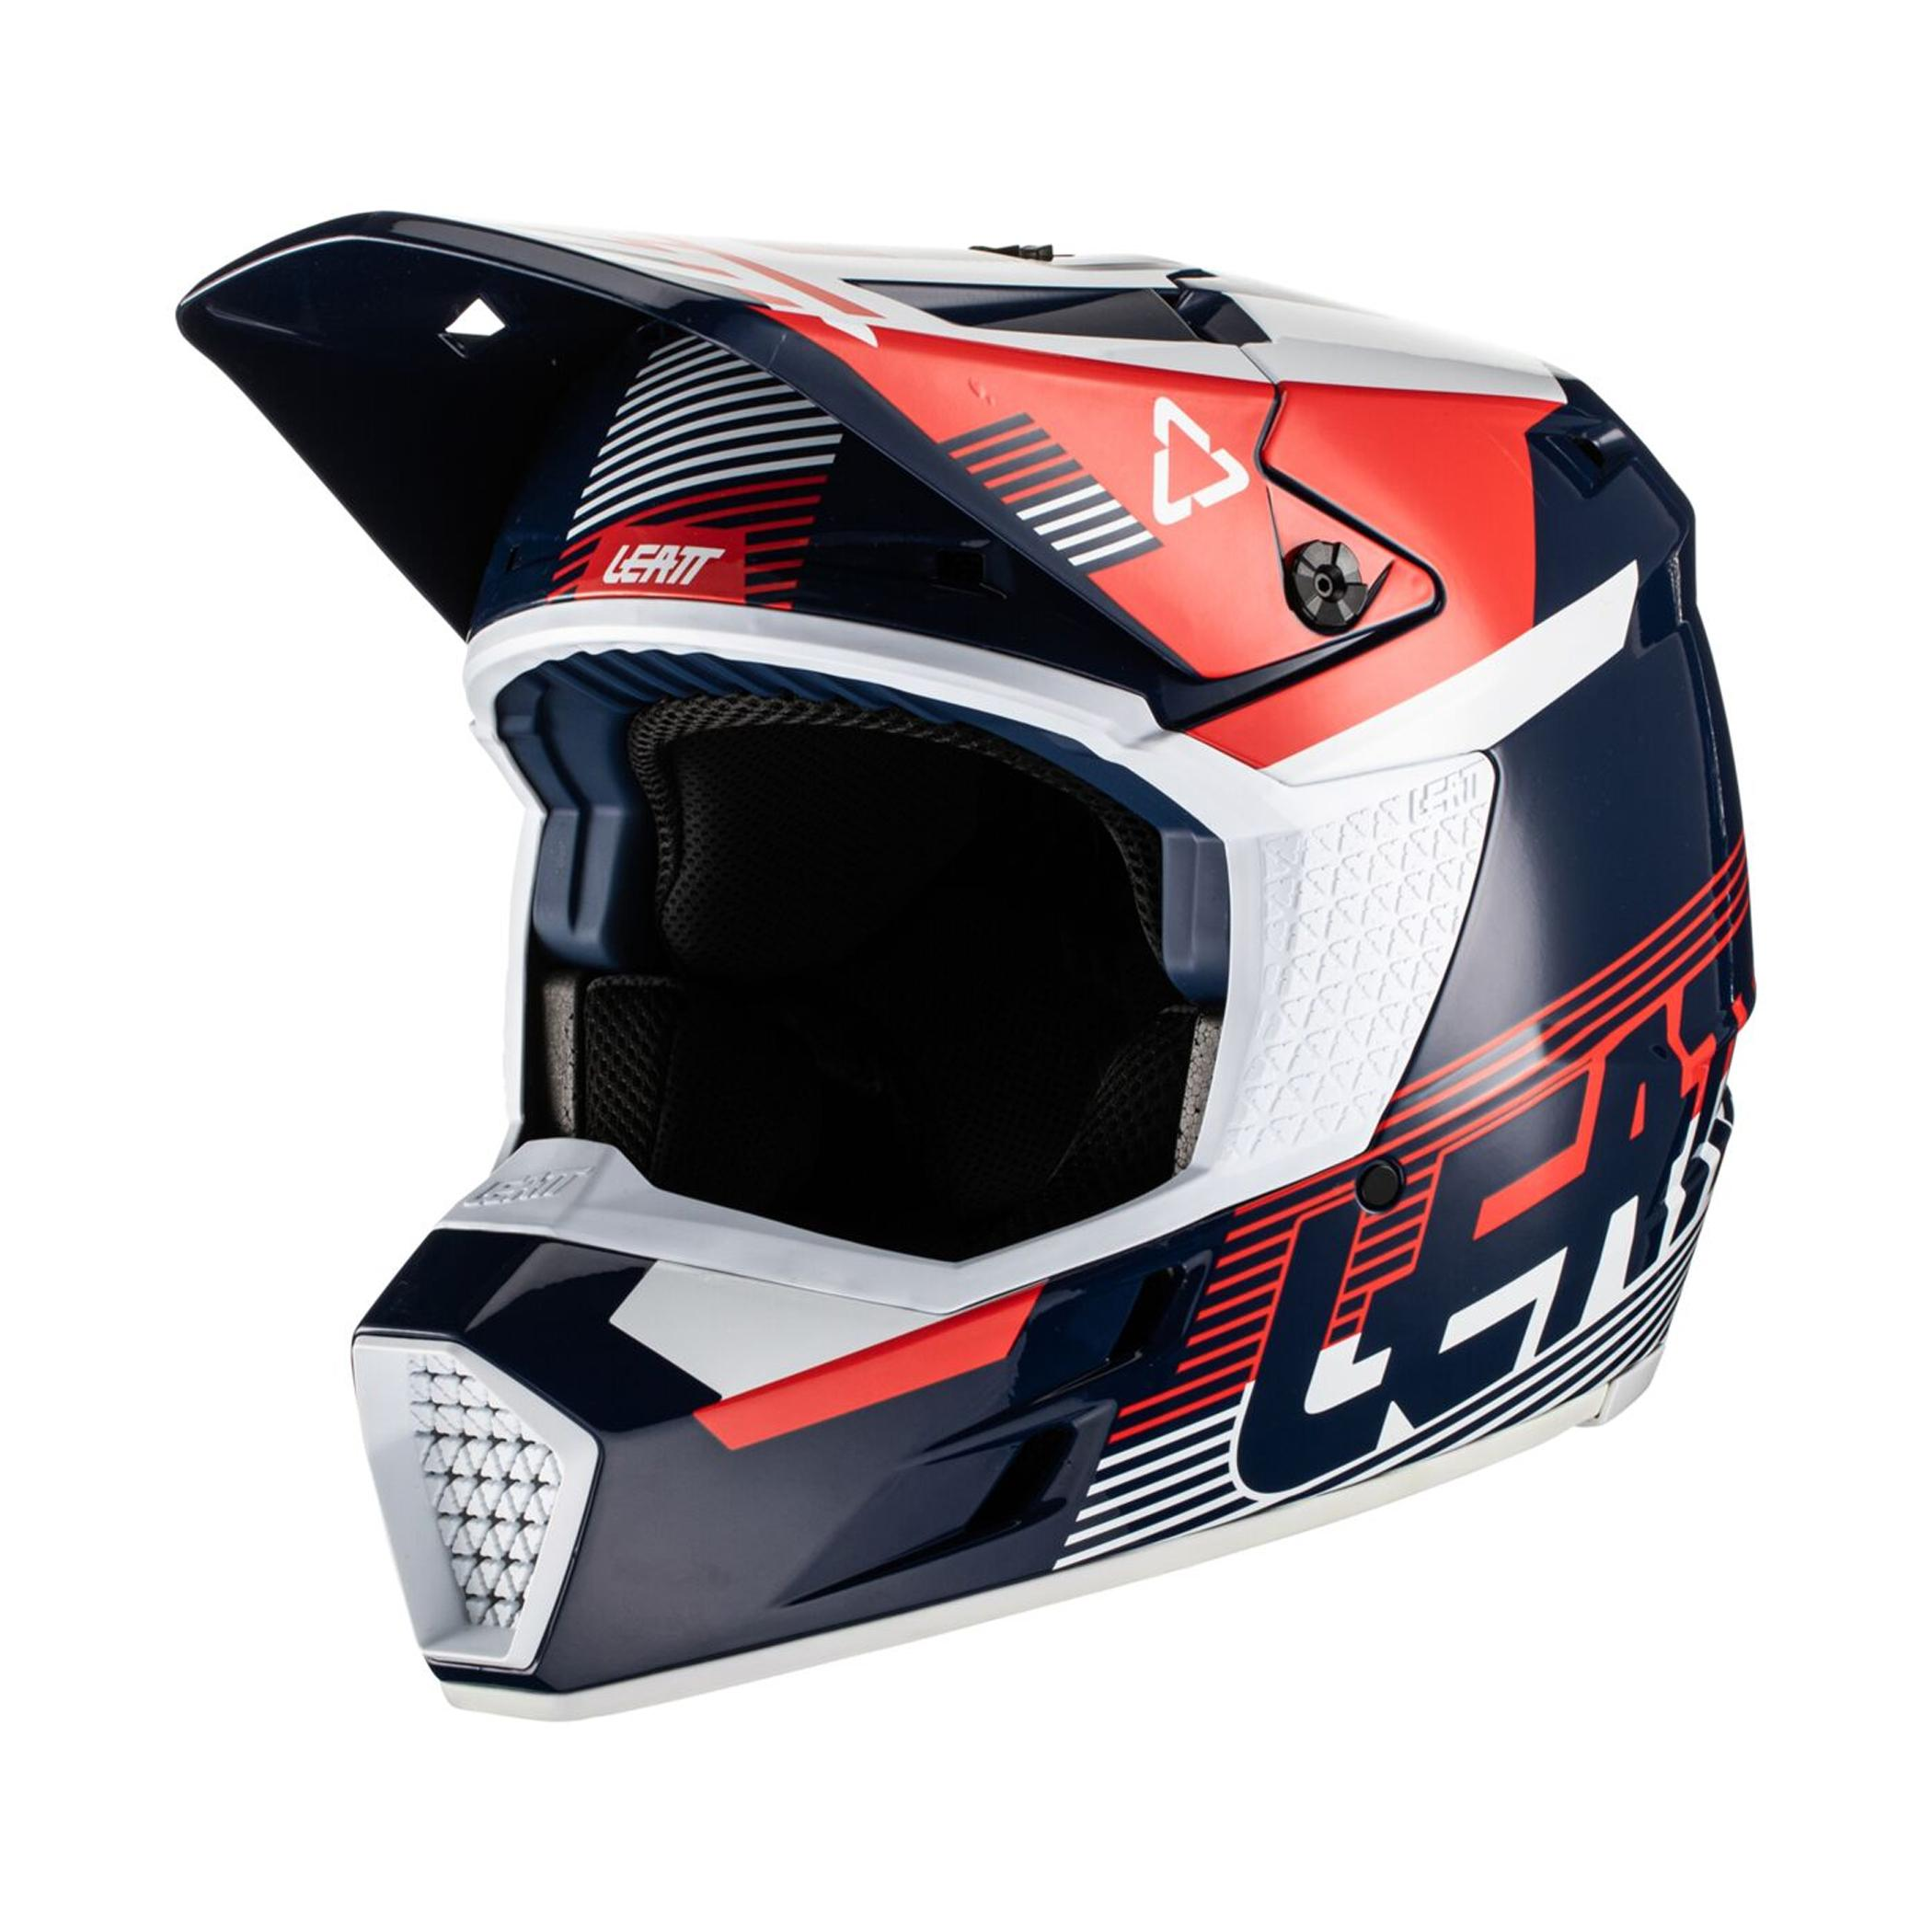helmet: (159, 71, 1787, 1686)
